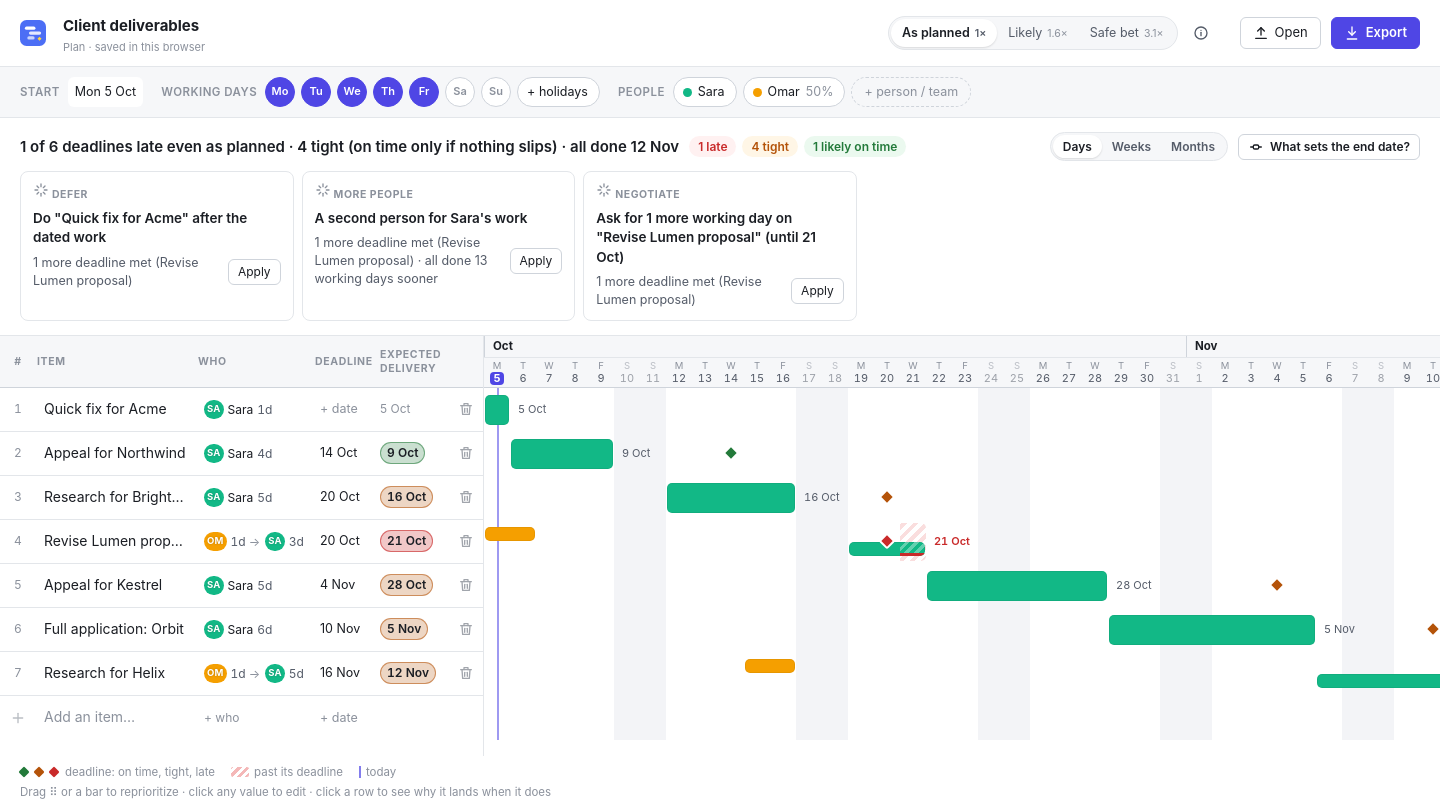
the item list › adding someone from the empty row: creates the item and opens its who editor
Click the button with class "who-cell" showing "+ who" at {"x": 254, "y": 718}, box x1=198 y1=704 x2=310 y2=731
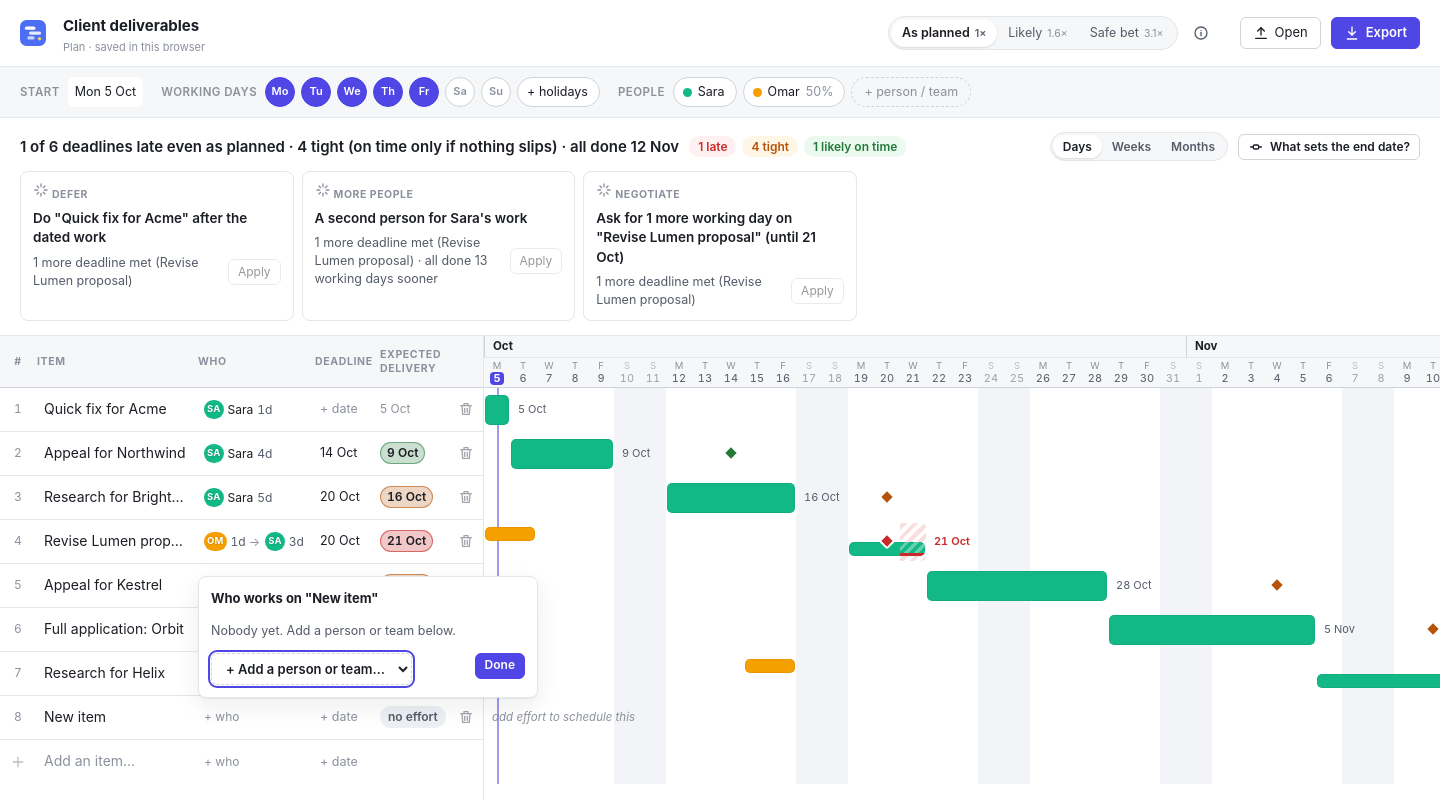
Select "Omar" in the dropdown with class "add-who" at {"x": 312, "y": 669}, box x1=211 y1=653 x2=412 y2=685
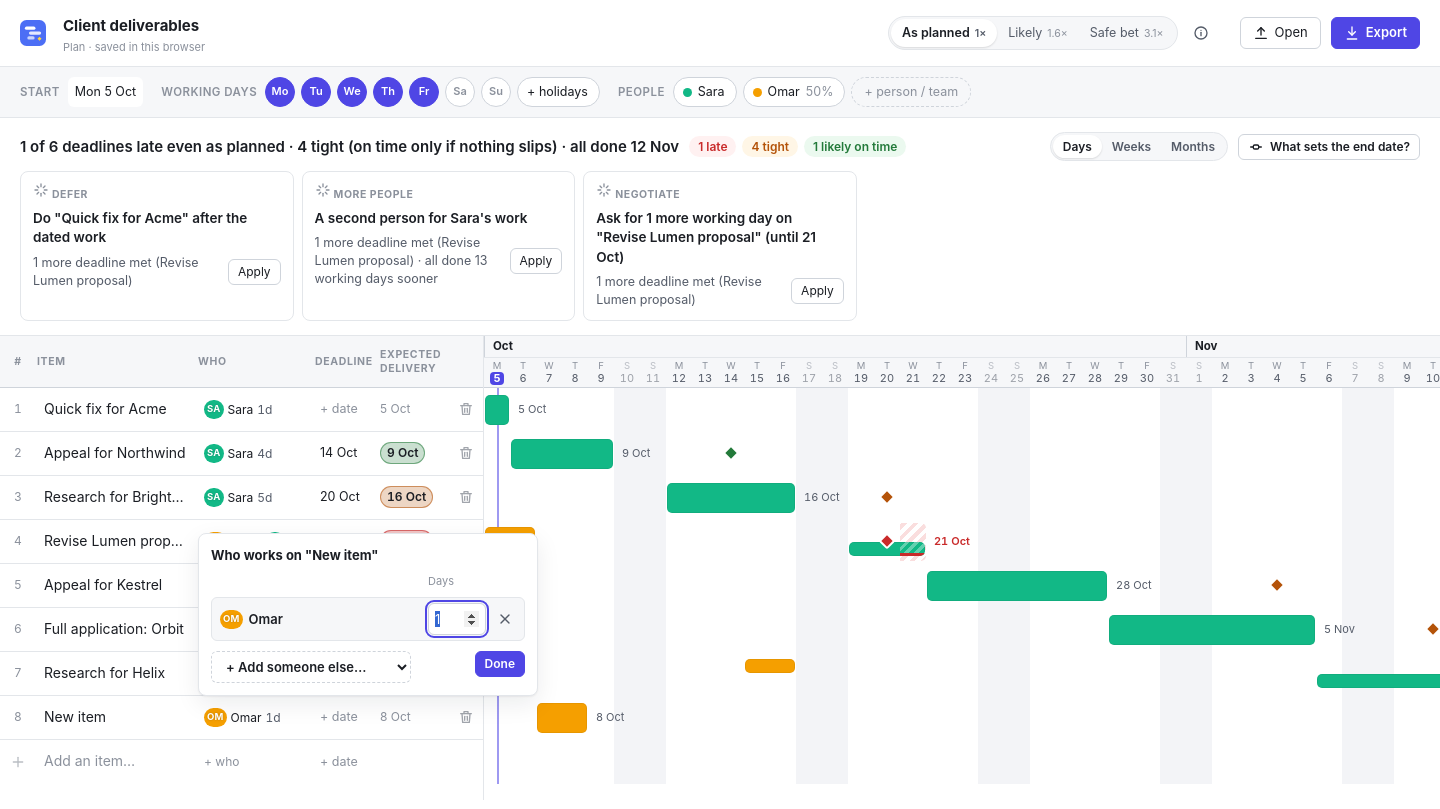
Now the button with class "who-cell" reads "OM Omar 1d", box x1=198 y1=702 x2=310 y2=732
